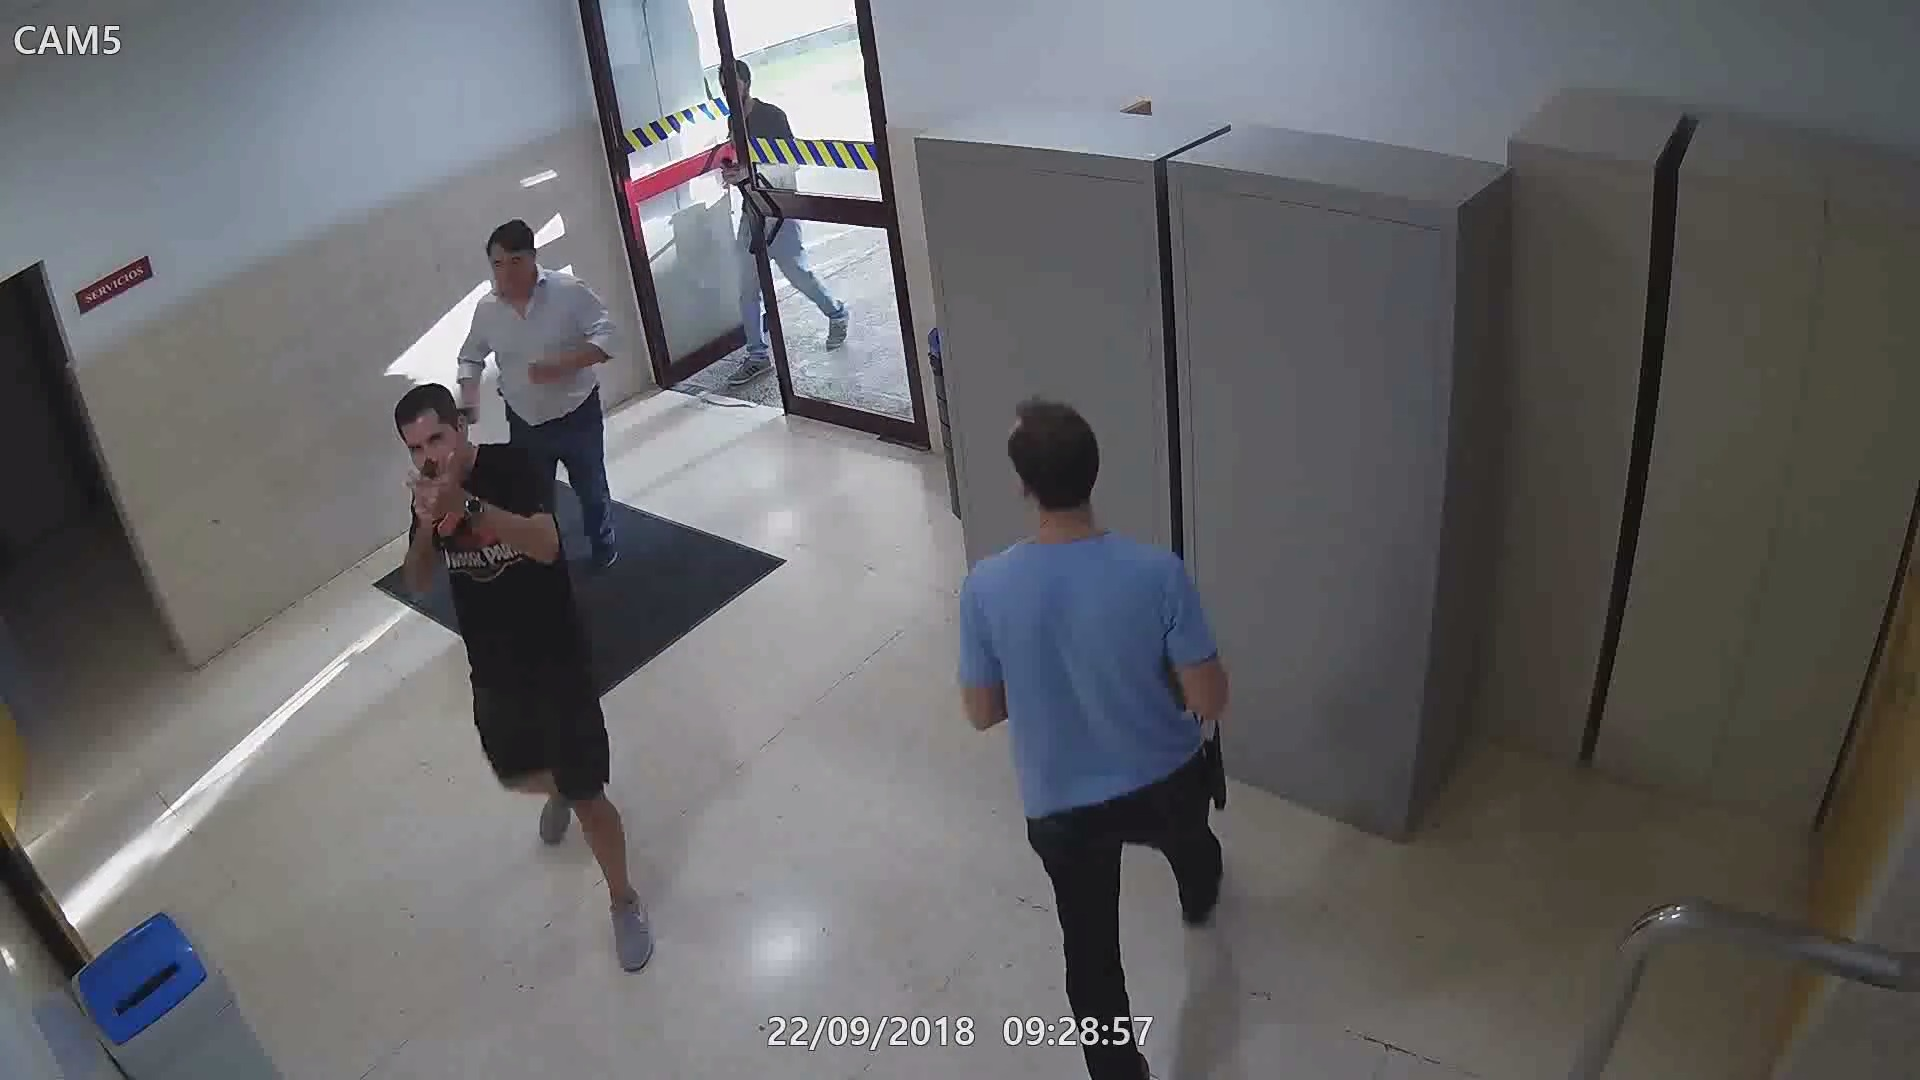Handgun: (407, 456, 448, 531), (715, 153, 745, 191)
